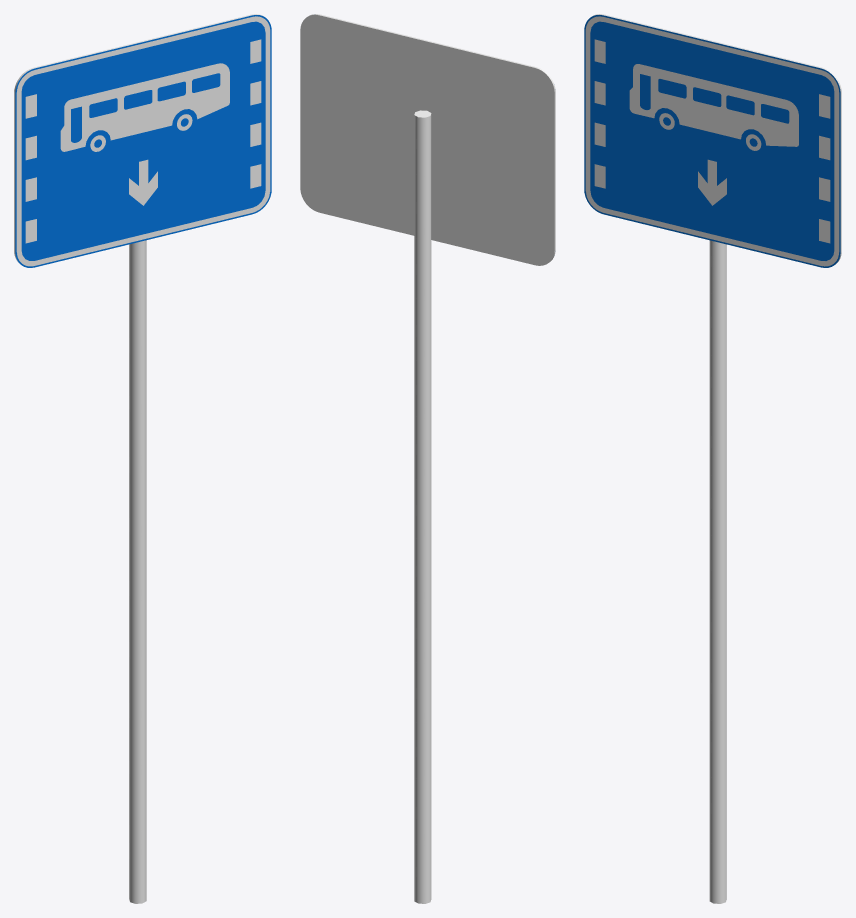
The picture shows the model from 3 angles, left to right: view 1: azimuth 30°, elevation 25°; view 2: azimuth 150°, elevation 25°; view 3: azimuth 330°, elevation 25°; orthographic projection.
Parts seen in each view (by area): view 1: I33; view 2: I33; view 3: I33.
Boxes of the visible parts, bbox=[...] form: I33: bbox=[14, 14, 271, 903]; I33: bbox=[300, 14, 555, 903]; I33: bbox=[584, 14, 841, 903].
Size of the model in its own units: 5.3 by 17.03 by 0.3646.
